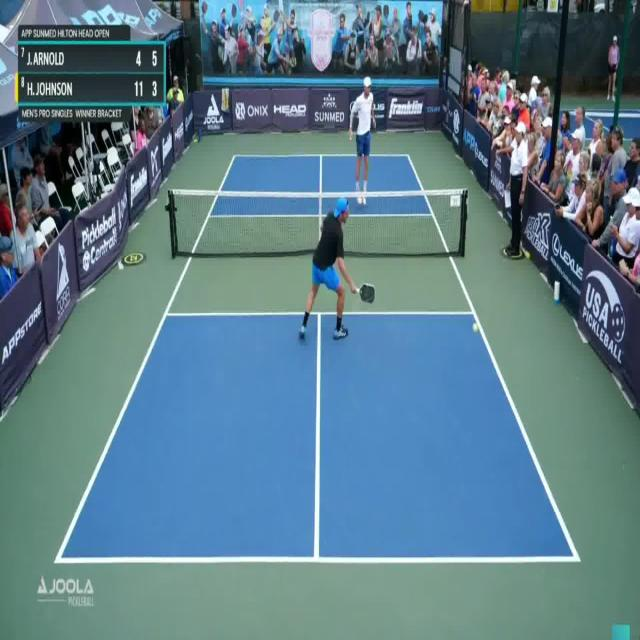Court: (57, 156, 579, 564)
ball: (468, 315, 479, 335)
